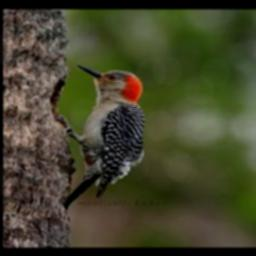Woodpecker: (58, 60, 155, 218)
